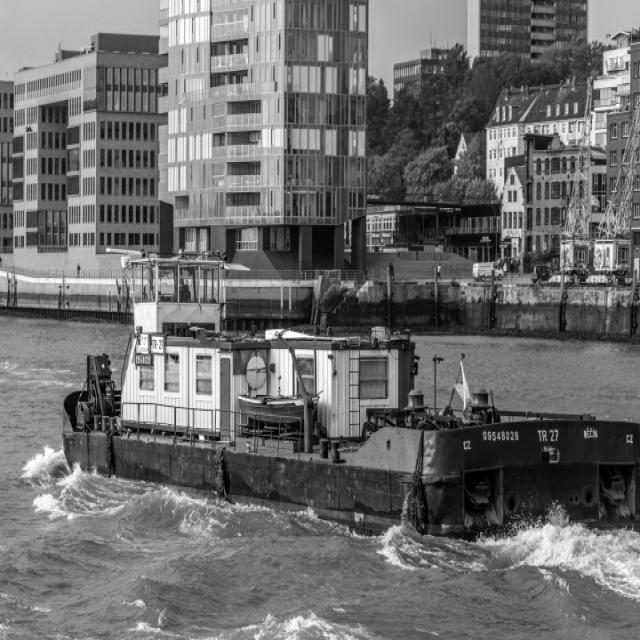tugboat: (58, 245, 640, 556)
